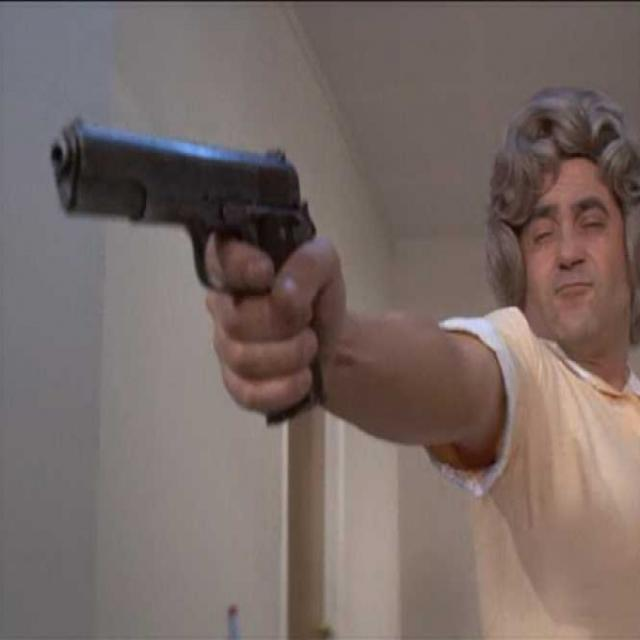weapons: (30, 83, 344, 415)
